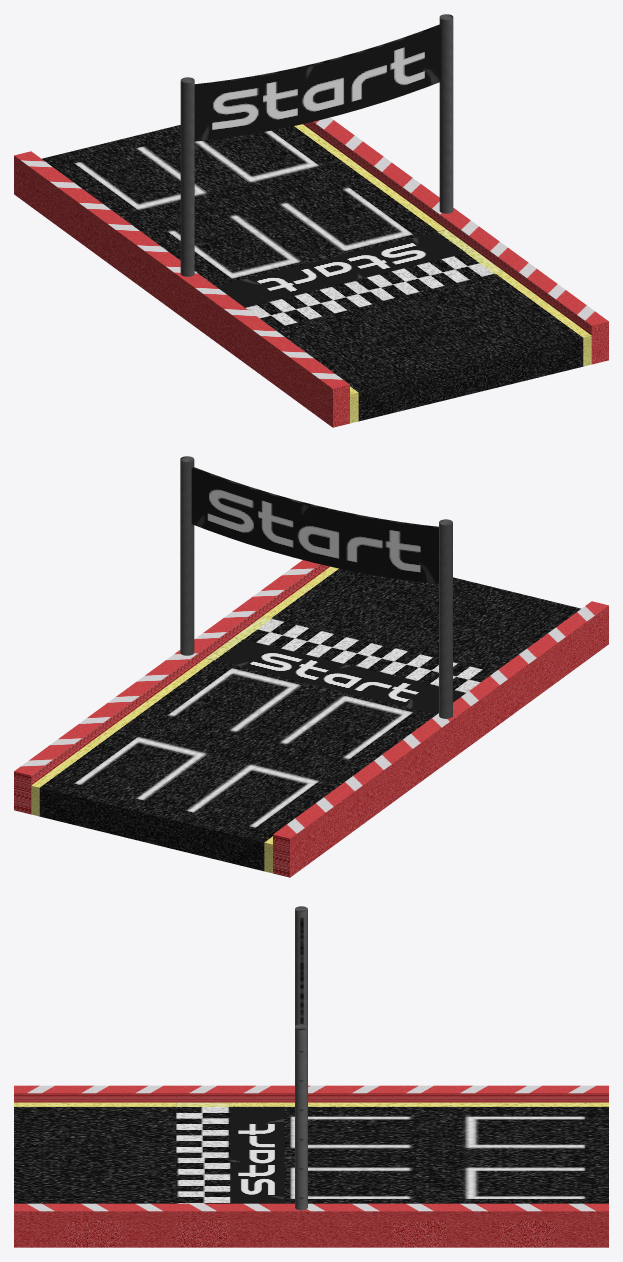
The model's file is Track - Starting line.fbx.
3 views of the same model, one above another, from view 1: azimuth 30°, elevation 25°; view 2: azimuth 150°, elevation 25°; view 3: azimuth 270°, elevation 25° (orthographic). The views are drawn at different scales.
Visible parts, largest first — view 1: Track - Starting line; view 2: Track - Starting line; view 3: Track - Starting line.
Part boxes in pixels (left/top/right/bottom): Track - Starting line: left=14, top=14, right=608, bottom=427; Track - Starting line: left=14, top=456, right=608, bottom=877; Track - Starting line: left=14, top=906, right=608, bottom=1247.
Bounding box in the file's own units: 50 × 40.24 × 100.
